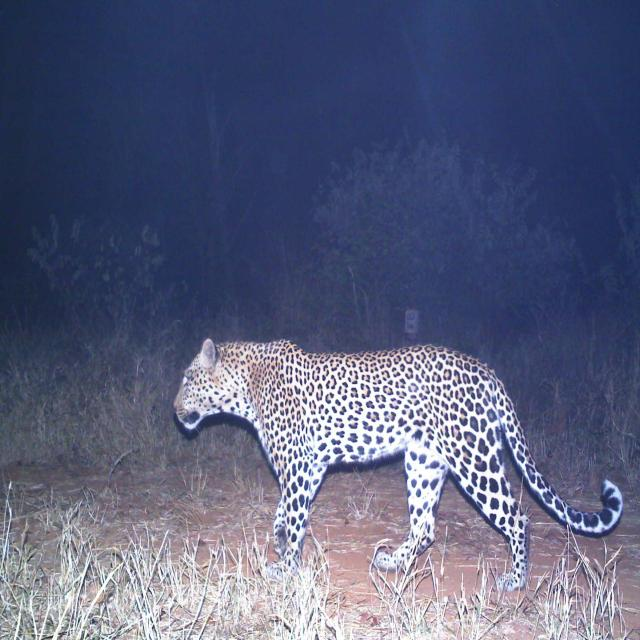Leopard: (174, 332, 626, 594)
